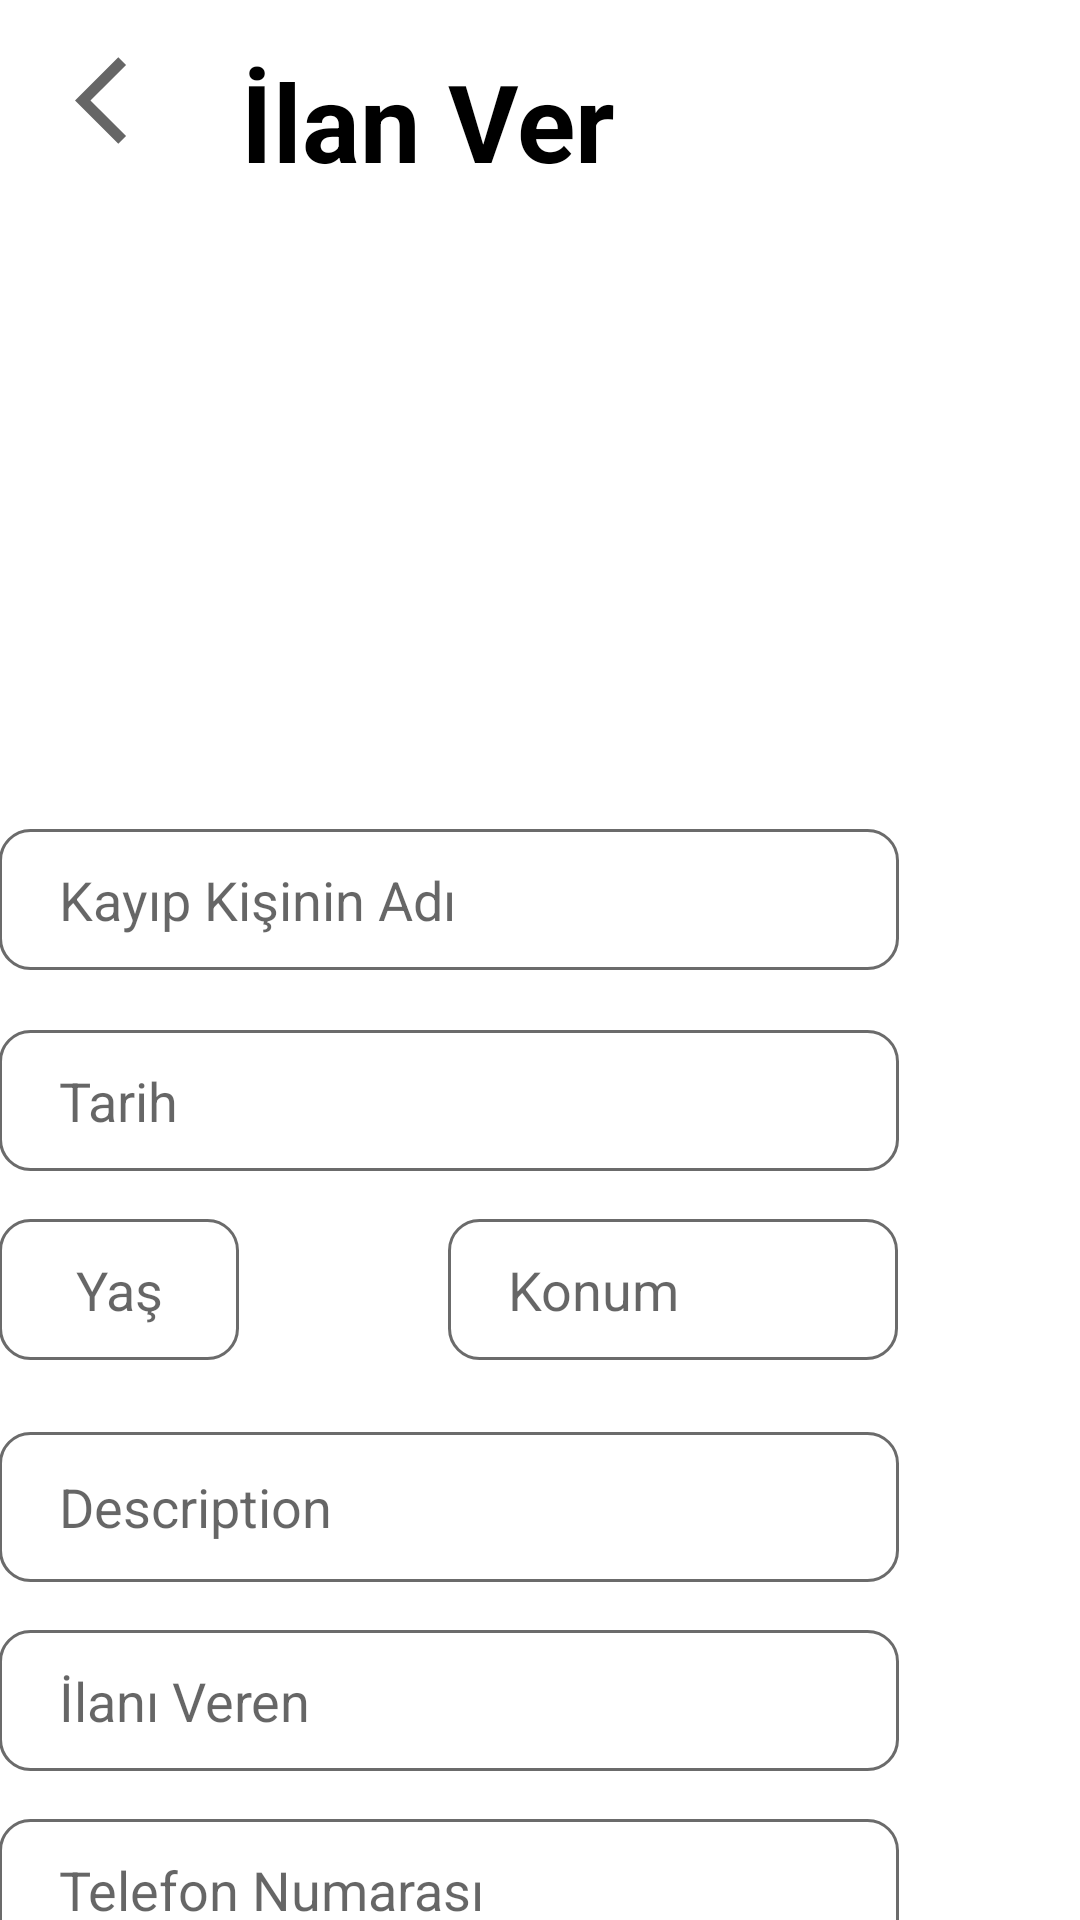

Icons on this 1080x1920 Android screen, each with its box as (x1,y1,x2,y2):
arrow back: (75,57,126,144)
